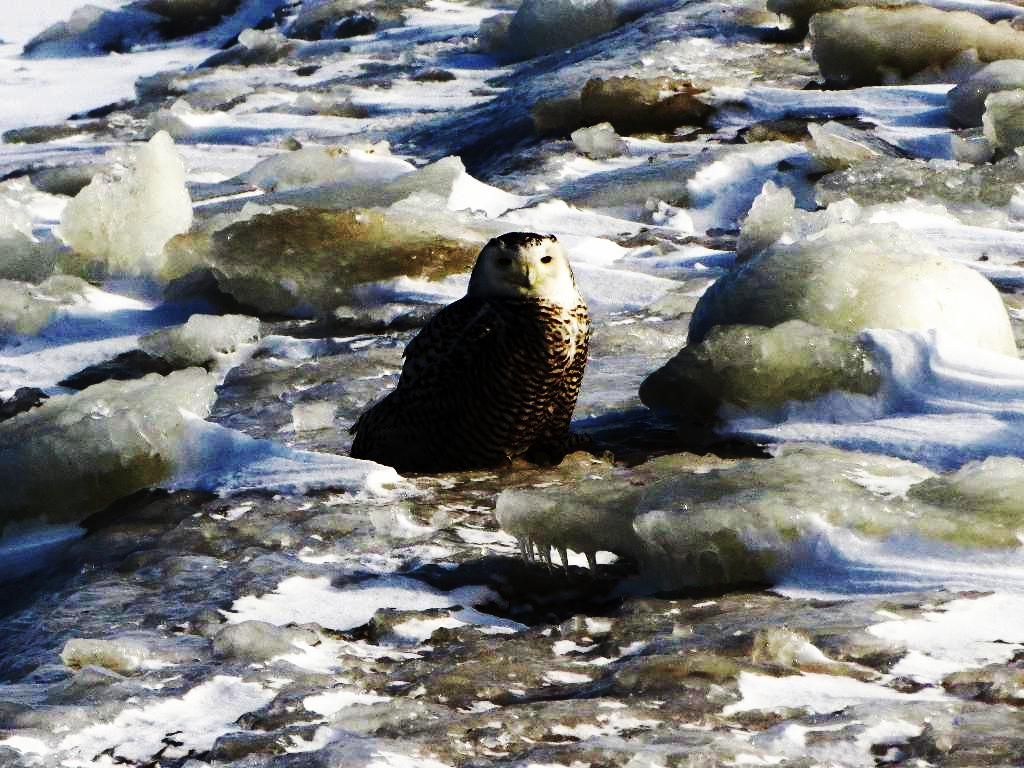Owl: (346, 232, 588, 474)
